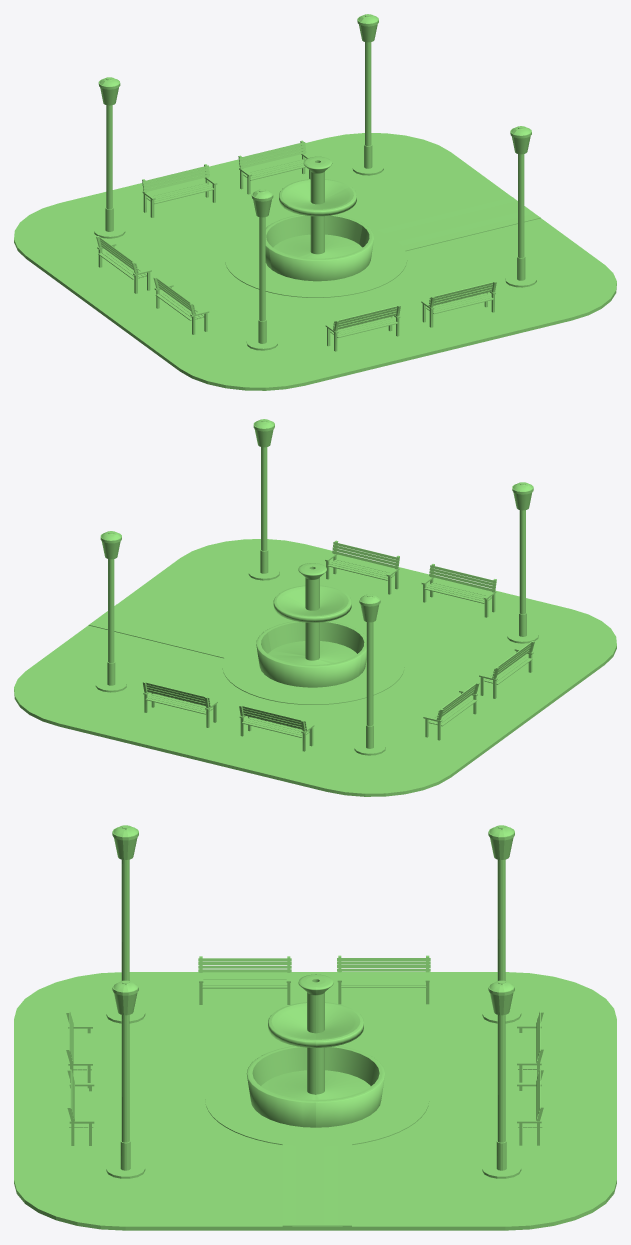
The picture shows the model from 3 angles, top to bottom: view 1: azimuth 30°, elevation 25°; view 2: azimuth 150°, elevation 25°; view 3: azimuth 270°, elevation 25°; orthographic projection. The views are drawn at different scales.
Visible parts, largest first — view 1: banco.003; view 2: banco.003; view 3: banco.003.
Boxes of the visible parts, bbox=[...] form: banco.003: bbox=[14, 14, 616, 390]; banco.003: bbox=[14, 419, 616, 796]; banco.003: bbox=[14, 825, 616, 1230].
Size of the model in its own units: 4347 by 1576 by 4347.
